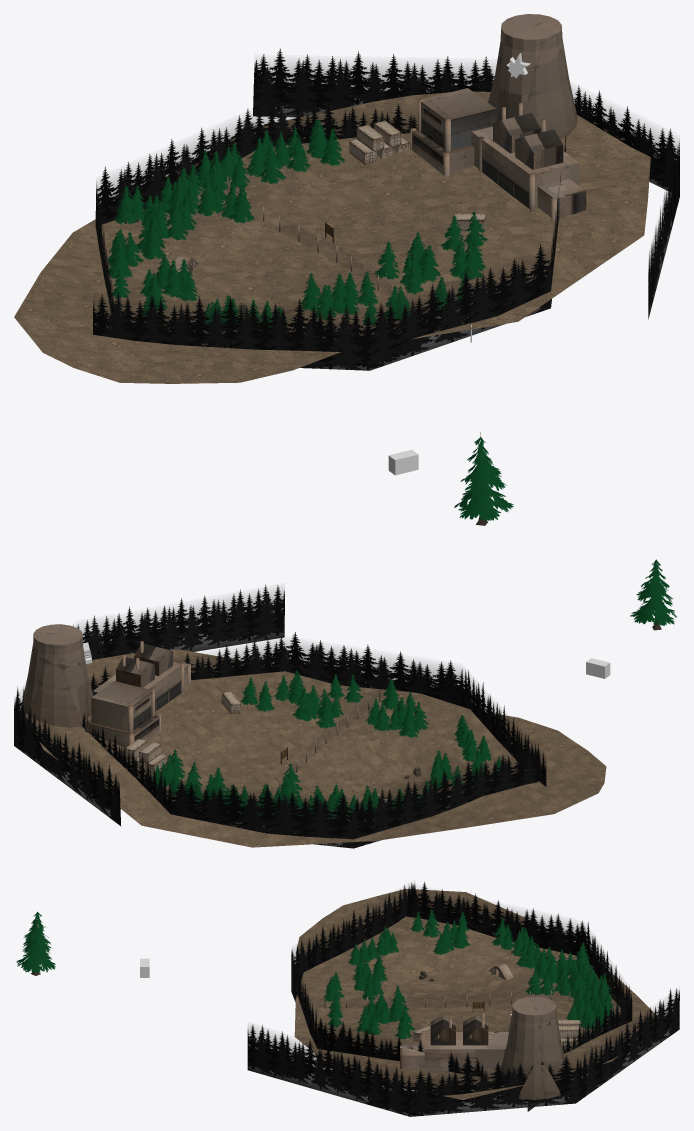
Rendered from starting_zone_2.glb.
The picture shows the model from 3 angles, top to bottom: view 1: azimuth 30°, elevation 25°; view 2: azimuth 150°, elevation 25°; view 3: azimuth 270°, elevation 25°; orthographic projection. The views are drawn at different scales.
Parts seen in each view (by area): view 1: Plane.001, Plane.006, Plane.010, Plane.012, Cylinder.020, Cube.010, Cube, tree.001, Cube.012, Cube.009, Cube.016, Cube.011; view 2: Plane.001, Plane.012, Plane.010, Plane.006, Cylinder.020, Cube, tree.001, Cube.010, Cube.016, Cube.011, Cube.012; view 3: Plane.001, Plane.010, Plane.012, Plane.006, Cylinder.020, Cube.010, tree.001, Cube.012, Cube.011, Cube.009.
Boxes of the visible parts, box(x1,y1,x2,y2) form: Plane.001: box(14, 91, 650, 383); Plane.006: box(93, 135, 566, 370); Plane.010: box(253, 48, 679, 319); Plane.012: box(95, 101, 417, 317); Cylinder.020: box(488, 14, 577, 139); Cube.010: box(471, 126, 579, 208); Cube: box(421, 88, 496, 150); tree.001: box(454, 432, 513, 525); Cube.012: box(515, 129, 563, 169); Cube.009: box(537, 179, 586, 218); Cube.016: box(412, 128, 474, 174); Cube.011: box(493, 113, 540, 153); Plane.001: box(25, 649, 606, 847); Plane.012: box(82, 712, 538, 848); Plane.010: box(14, 584, 284, 826); Plane.006: box(90, 632, 546, 786); Cylinder.020: box(20, 624, 93, 731); Cube: box(91, 681, 152, 731); tree.001: box(630, 559, 676, 630); Cube.010: box(92, 662, 181, 711); Cube.016: box(85, 713, 159, 747); Cube.011: box(116, 657, 154, 687); Cube.012: box(134, 644, 172, 675); Plane.001: box(294, 889, 657, 1099); Plane.010: box(247, 988, 679, 1116); Plane.012: box(407, 881, 632, 1111); Plane.006: box(291, 882, 483, 1100); Cylinder.020: box(500, 996, 565, 1099); Cube.010: box(424, 1032, 508, 1071); tree.001: box(16, 911, 55, 975); Cube.012: box(430, 1015, 455, 1045); Cube.011: box(463, 1015, 488, 1045); Cube.009: box(400, 1044, 424, 1068).
Size of the model in its own units: 219 by 52.28 by 269.
35 materials, 35 textured.
